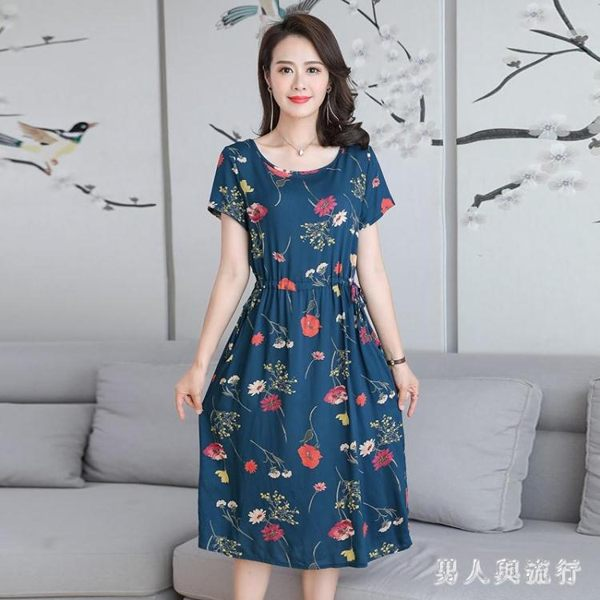C_dress: (160, 129, 426, 554)
